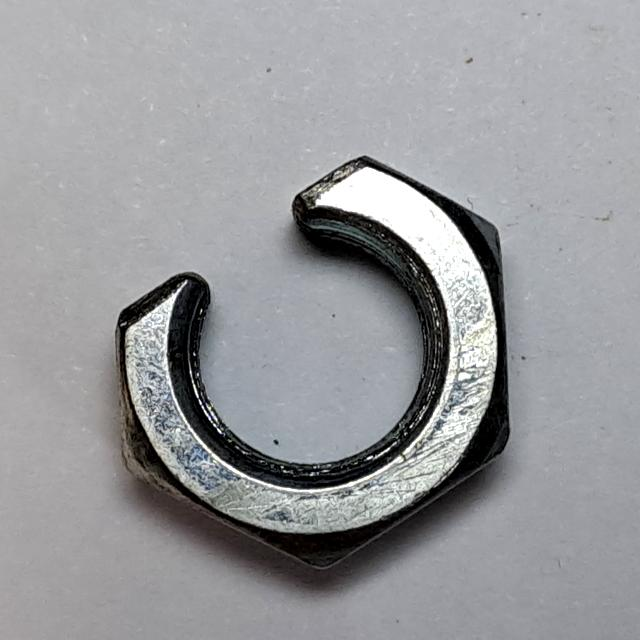Fracture: (98, 141, 528, 589)
